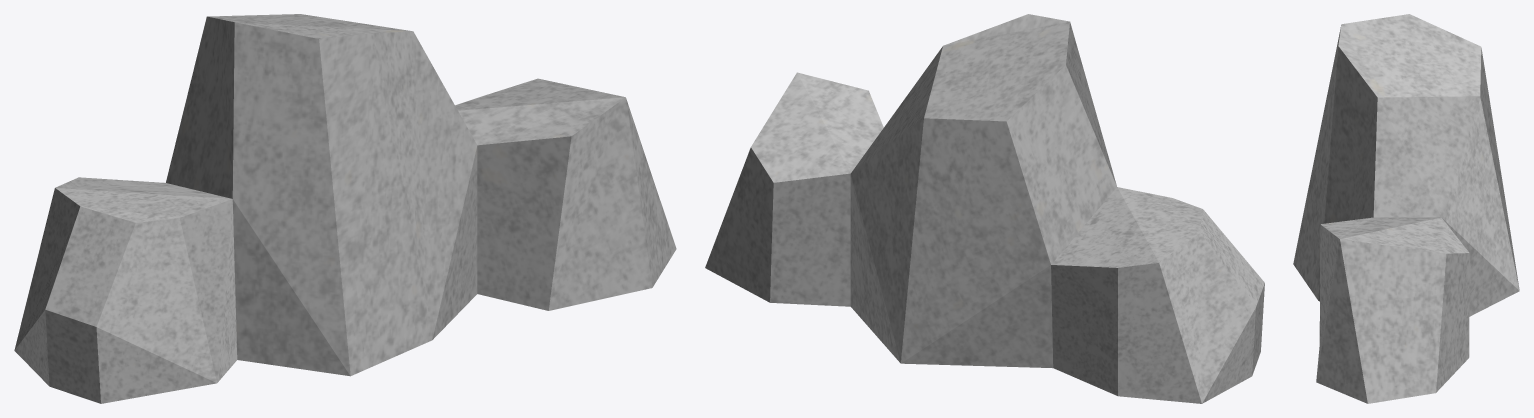
File: stone.fbx
3 views of the same model, side by side, from view 1: azimuth 30°, elevation 25°; view 2: azimuth 150°, elevation 25°; view 3: azimuth 270°, elevation 25° (orthographic). The views are drawn at different scales.
Parts seen in each view (by area): view 1: Cylinder001; view 2: Cylinder001; view 3: Cylinder001.
Part boxes in pixels (x1,y1,x2,y2): Cylinder001: (14,14,676,403); Cylinder001: (705,14,1264,403); Cylinder001: (1293,14,1519,403).
Bounding box in the file's own units: 2.62 × 1.28 × 1.09.
Materials: 1 (1 with a texture image).
